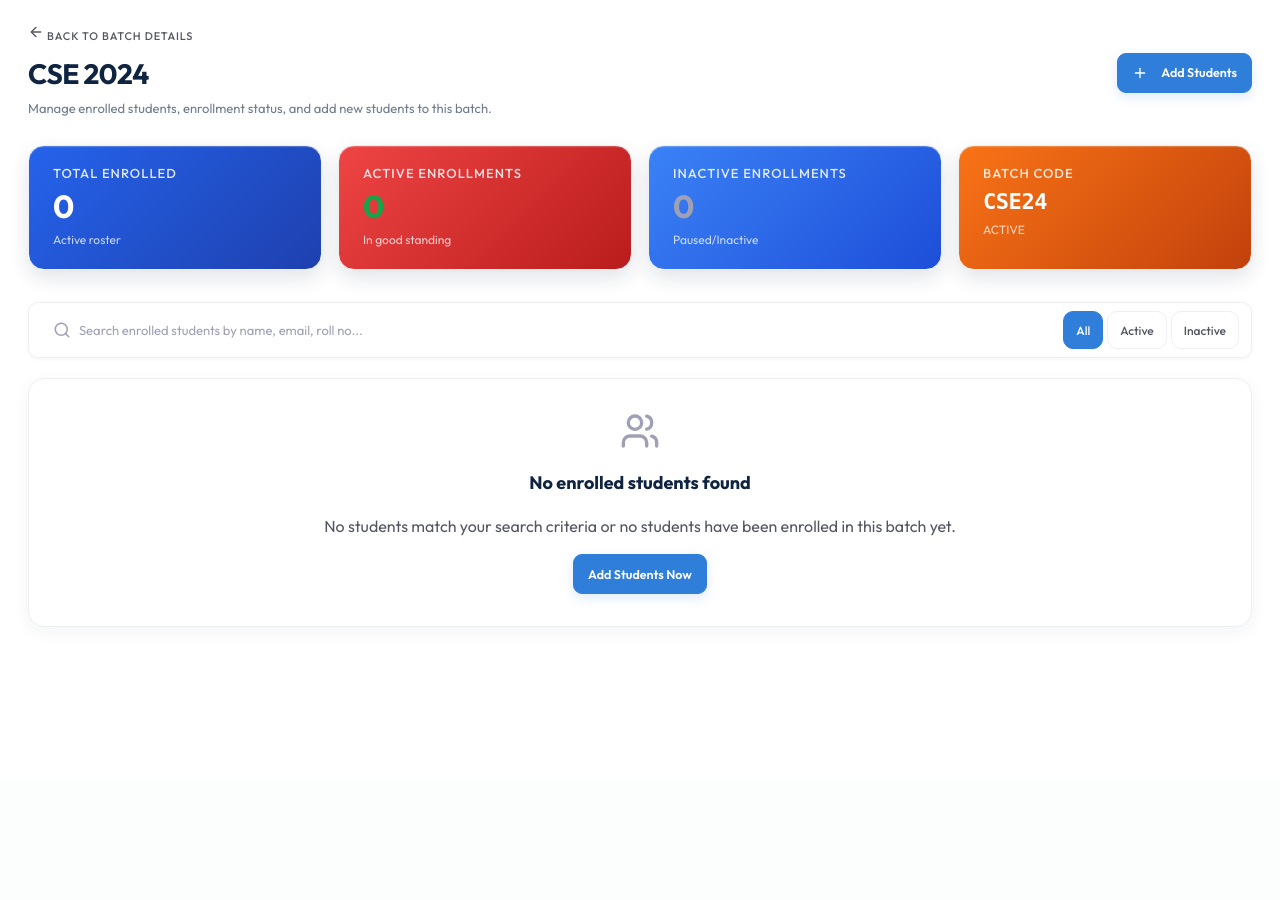
Test case: an Admin-created student appears in the enrollment selector
The width and height of the screenshot is (1280, 900).
Click the button "Add Students". click: point(1185, 72)
box: x1=1117 y1=52 x2=1252 y2=92
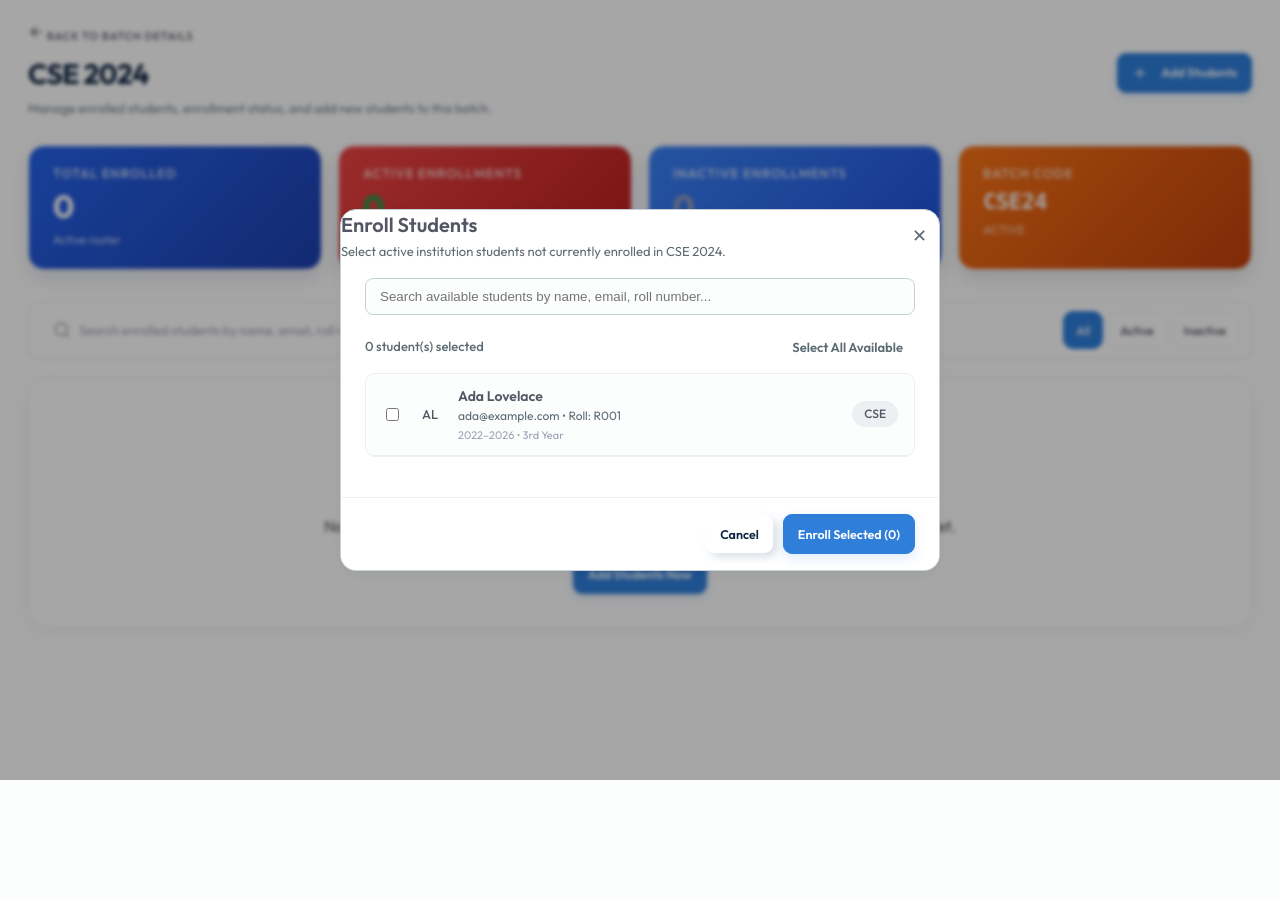
Result: the heading "Enroll Students" is shown at x1=341 y1=212 x2=477 y2=237
Result: the text "Ada Lovelace" is shown at x1=458 y1=386 x2=543 y2=404
